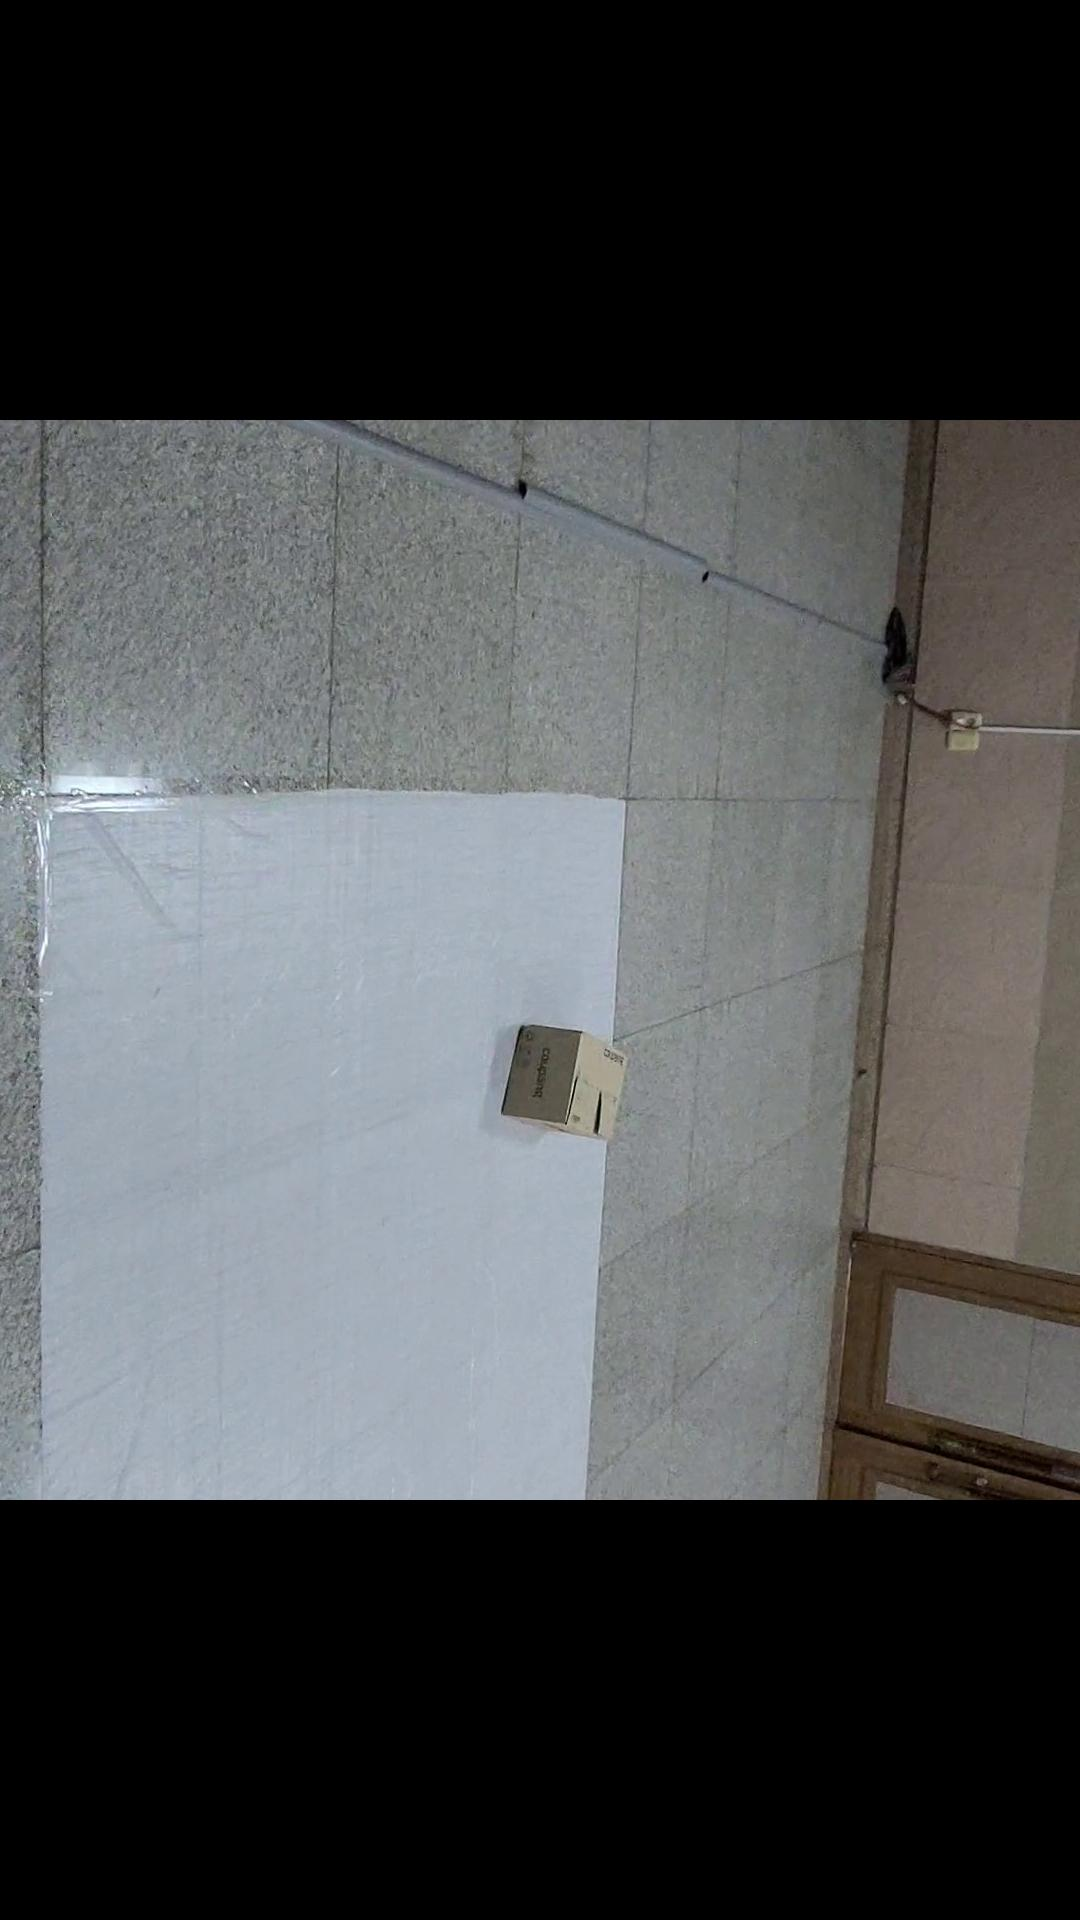Box: (444, 973, 670, 1184)
